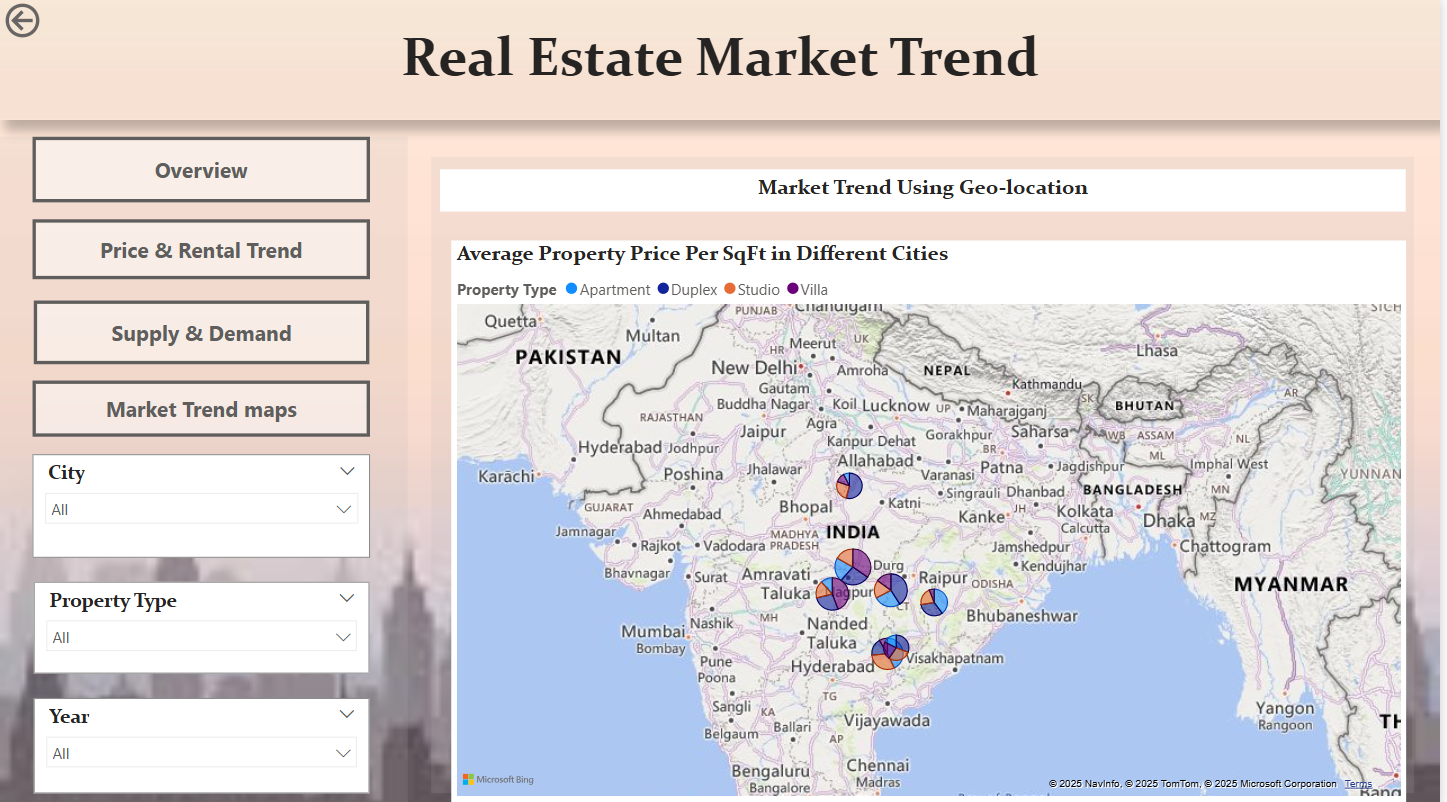

This screenshot's page, from the dashboard's own definition file:
{"tool":"powerbi","page":{"name":"Market Trend Using Geo-location","canvas":[1280,720],"ordinal":3},"visuals":[{"type":"textbox","box":[0,123.5,362.3,596.9],"z":0},{"type":"actionButton","box":[0,0,100,40],"z":4000},{"type":"textbox","title":"Real Estate Market Trends","box":[0,0,1280.3,107.8],"z":5000},{"type":"textbox","box":[383,141,873.8,565.5],"z":6000},{"type":"textbox","box":[391.3,152.1,858.6,37.3],"z":7000},{"type":"map","title":"Average Property Price Per SqFt in Different Cities","fields":{"X":["Avg(real_estate_data.Longitude)"],"Y":["Avg(real_estate_data.Latitude)"],"Category":["real_estate_data.City"],"Series":["real_estate_data.Property_Type"],"Size":["Sum(real_estate_data.Price_per_SqFt)"]},"box":[401.2,215.5,848.8,498.8],"z":8000},{"type":"slicer","fields":{"Values":["real_estate_data.City"]},"box":[28.3,405,300,91.7],"z":8001},{"type":"slicer","fields":{"Values":["real_estate_data.Property_Type"]},"box":[30,518.3,298.3,81.7],"z":8002},{"type":"slicer","fields":{"Values":["Calendar.Year"]},"box":[30,621.7,298.3,85],"z":8003},{"type":"actionButton","box":[28.3,123.3,300,58.3],"z":8004},{"type":"actionButton","box":[28.3,196.7,300,53.3],"z":8005},{"type":"actionButton","box":[30,268.3,298.3,56.7],"z":8006},{"type":"actionButton","box":[28.3,340,300,50],"z":8007}]}

Visuals, with their boxes in screenshot pixels (x1, y1, x2, y2), scaled from the page's 1280x720 canvas onto the 1447x802 screenshot:
textbox: [x1=0, y1=138, x2=410, y2=801]
actionButton: [x1=0, y1=0, x2=113, y2=45]
"Real Estate Market Trends" textbox: [x1=0, y1=0, x2=1446, y2=120]
textbox: [x1=433, y1=157, x2=1421, y2=787]
textbox: [x1=442, y1=169, x2=1413, y2=211]
"Average Property Price Per SqFt in Different Cities" map: [x1=454, y1=240, x2=1413, y2=796]
slicer - real_estate_data.City: [x1=32, y1=451, x2=371, y2=553]
slicer - real_estate_data.Property_Type: [x1=34, y1=577, x2=371, y2=668]
slicer - Calendar.Year: [x1=34, y1=693, x2=371, y2=787]
actionButton: [x1=32, y1=137, x2=371, y2=202]
actionButton: [x1=32, y1=219, x2=371, y2=278]
actionButton: [x1=34, y1=299, x2=371, y2=362]
actionButton: [x1=32, y1=379, x2=371, y2=434]
